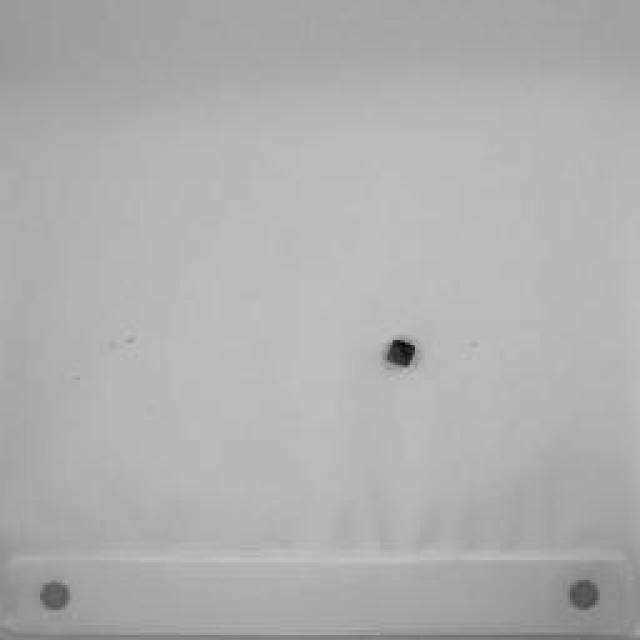dice_5: (382, 338, 418, 372)
